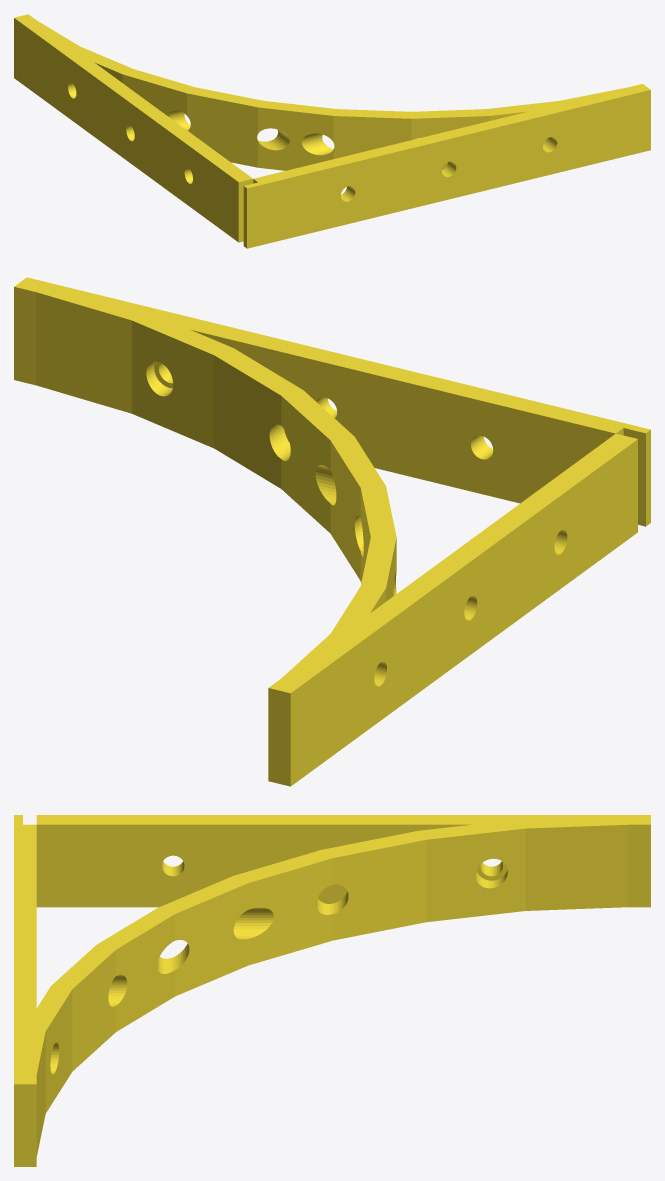
File: openscad_curved-corner-bracket.glb
The picture shows the model from 3 angles, top to bottom: view 1: azimuth 30°, elevation 25°; view 2: azimuth 150°, elevation 25°; view 3: azimuth 270°, elevation 25°; orthographic projection. The views are drawn at different scales.
Parts seen in each view (by area): view 1: object; view 2: object; view 3: object.
Boxes of the visible parts, left/top/right/bottom form: object: left=14, top=14, right=650, bottom=248; object: left=14, top=277, right=650, bottom=786; object: left=14, top=815, right=650, bottom=1166.
Size of the model in its own units: 70 by 10 by 70.
